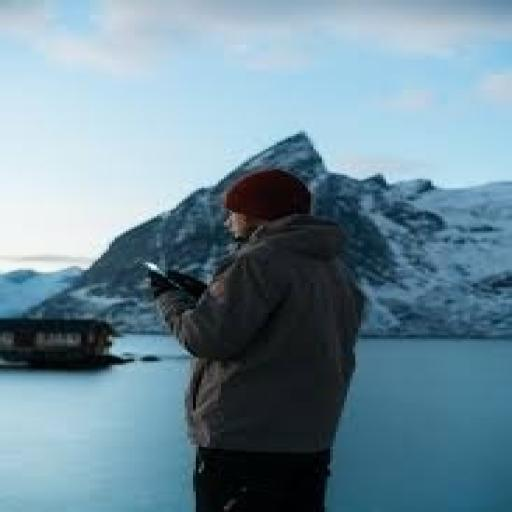texting: (140, 166, 369, 510)
